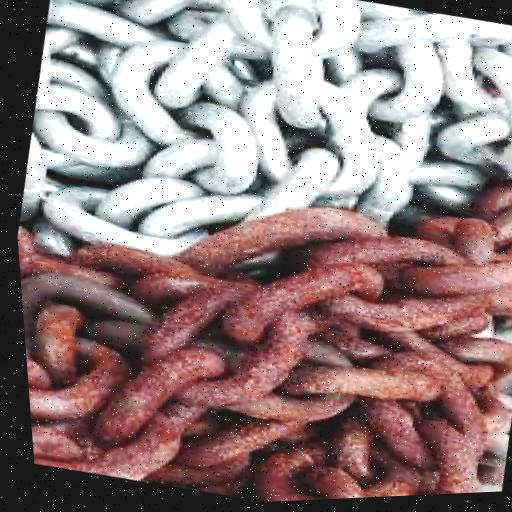corrosion: (8, 79, 512, 512)
